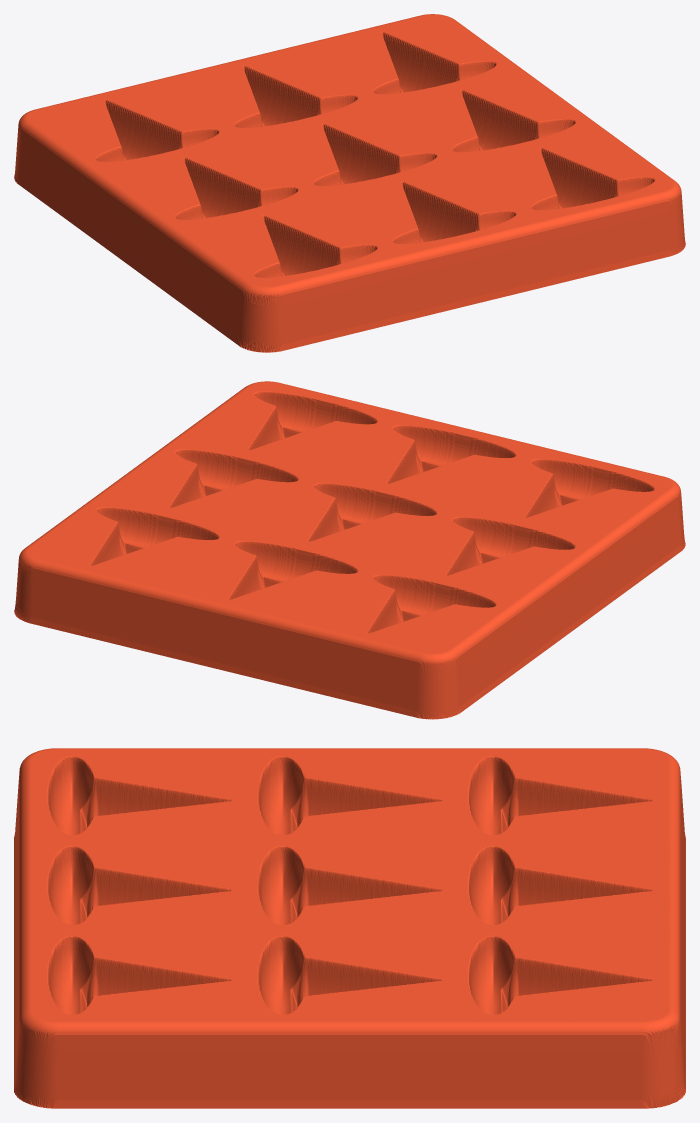
File: mold.glb
The picture shows the model from 3 angles, top to bottom: view 1: azimuth 30°, elevation 25°; view 2: azimuth 150°, elevation 25°; view 3: azimuth 270°, elevation 25°; orthographic projection. The views are drawn at different scales.
Parts seen in each view (by area): view 1: geometry_0; view 2: geometry_0; view 3: geometry_0.
Boxes of the visible parts, x1,y1,x2,y2 form: geometry_0: (14,14,685,352); geometry_0: (14,381,685,719); geometry_0: (14,748,685,1108).
Size of the model in its own units: 0.1402 by 0.0182 by 0.1387.
